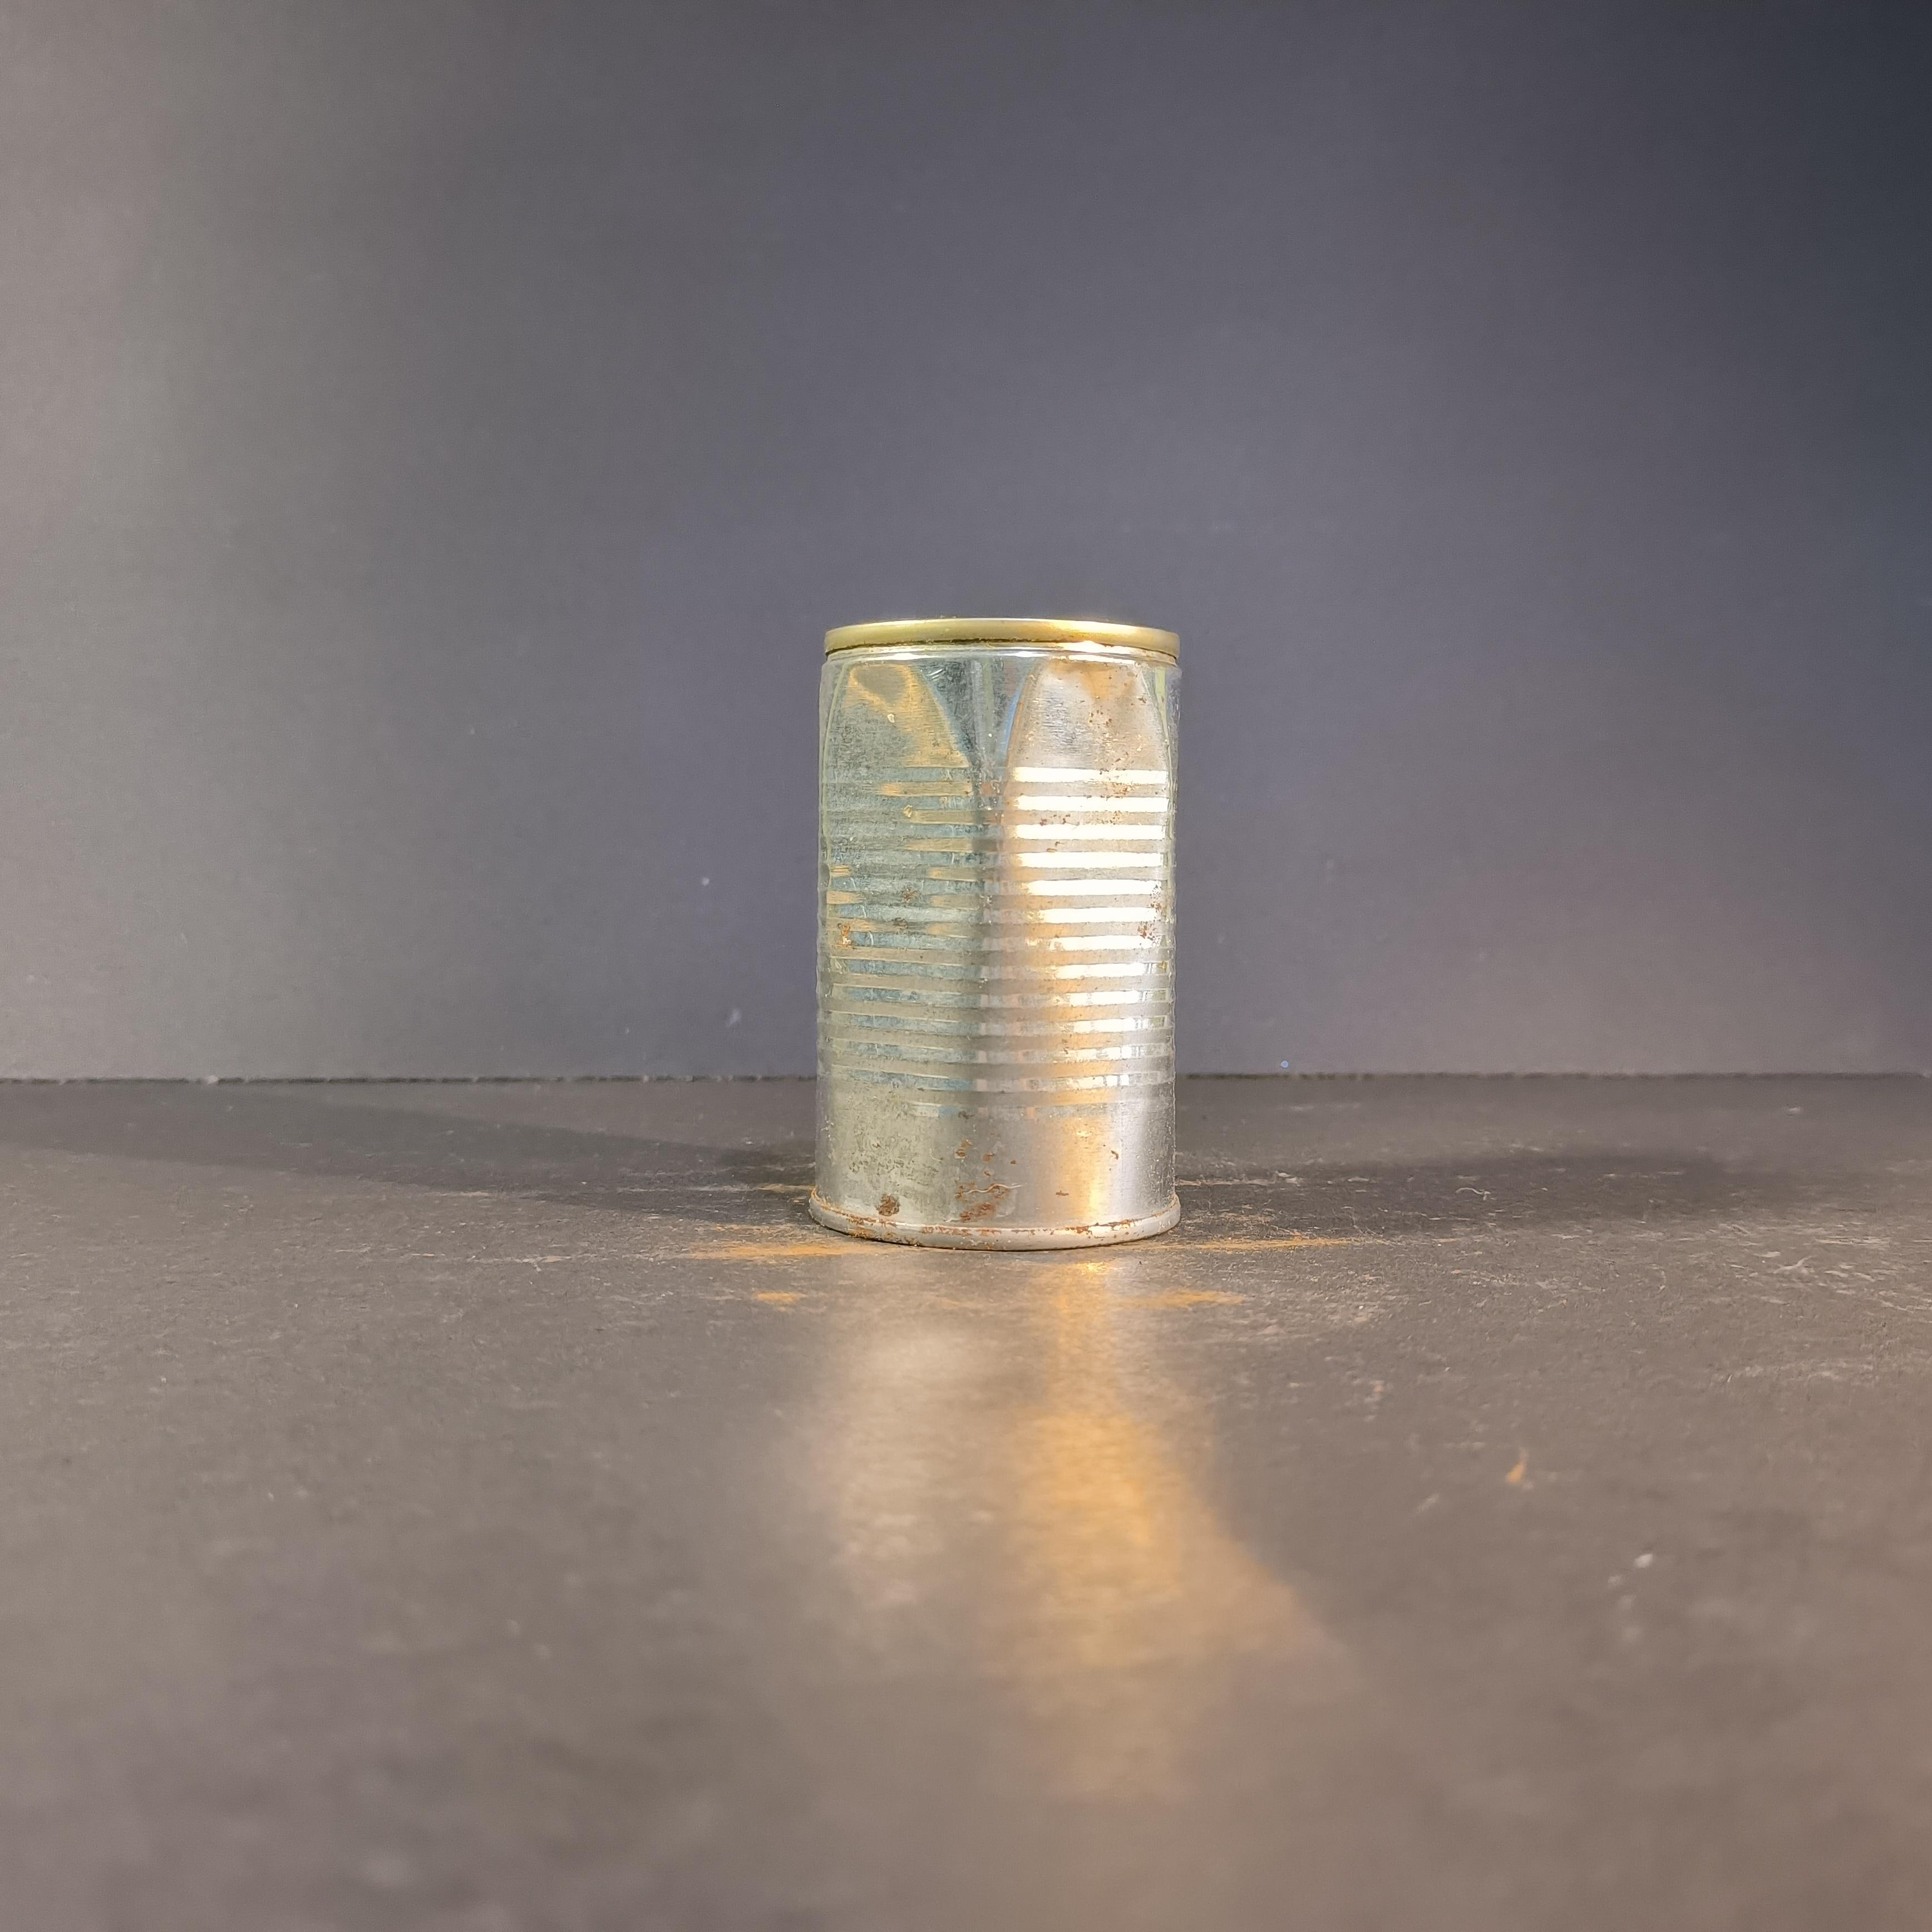Dented: (796, 593, 1210, 1297)
